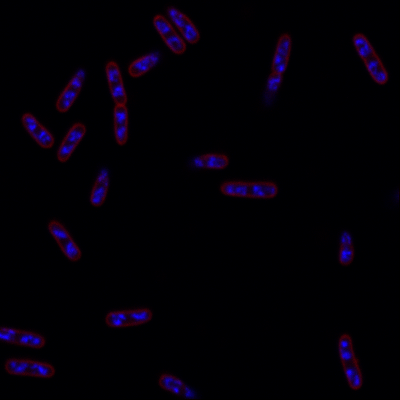Control: (101, 60, 131, 148), (350, 33, 390, 86), (335, 332, 366, 393), (46, 219, 85, 263), (152, 13, 186, 55), (0, 354, 57, 379), (220, 177, 279, 201), (54, 124, 89, 163), (20, 112, 55, 148), (102, 306, 155, 329)
Oblique: (266, 32, 295, 103), (128, 41, 179, 77), (54, 64, 90, 113), (165, 4, 202, 44), (87, 166, 113, 208), (188, 152, 233, 171), (336, 229, 356, 269)
